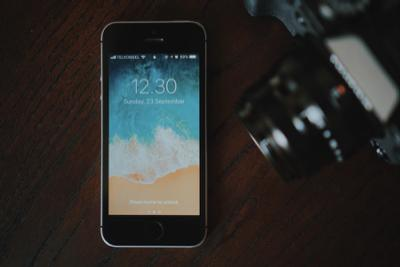Mobile Phone: (98, 19, 209, 248)
